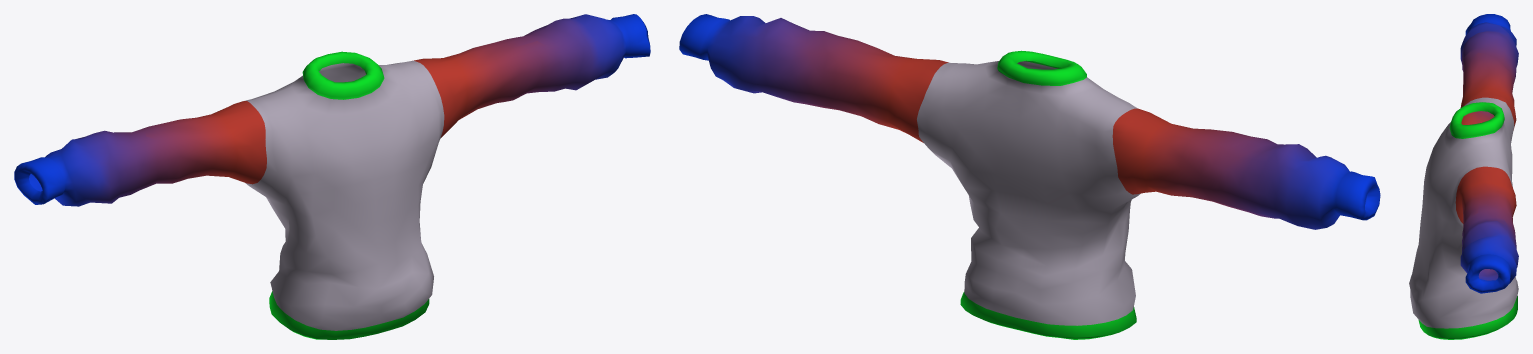
The model's file is M_top.0012_sweater.fbx.
The picture shows the model from 3 angles, left to right: view 1: azimuth 30°, elevation 25°; view 2: azimuth 150°, elevation 25°; view 3: azimuth 270°, elevation 25°; orthographic projection. The views are drawn at different scales.
Visible parts, largest first — view 1: Tshirt; view 2: Tshirt; view 3: Tshirt.
Part boxes in pixels (x1,y1,x2,y2): Tshirt: (14, 14, 650, 339); Tshirt: (679, 14, 1380, 339); Tshirt: (1409, 14, 1518, 339).
Size of the model in its own units: 111 by 41.93 by 20.21.
